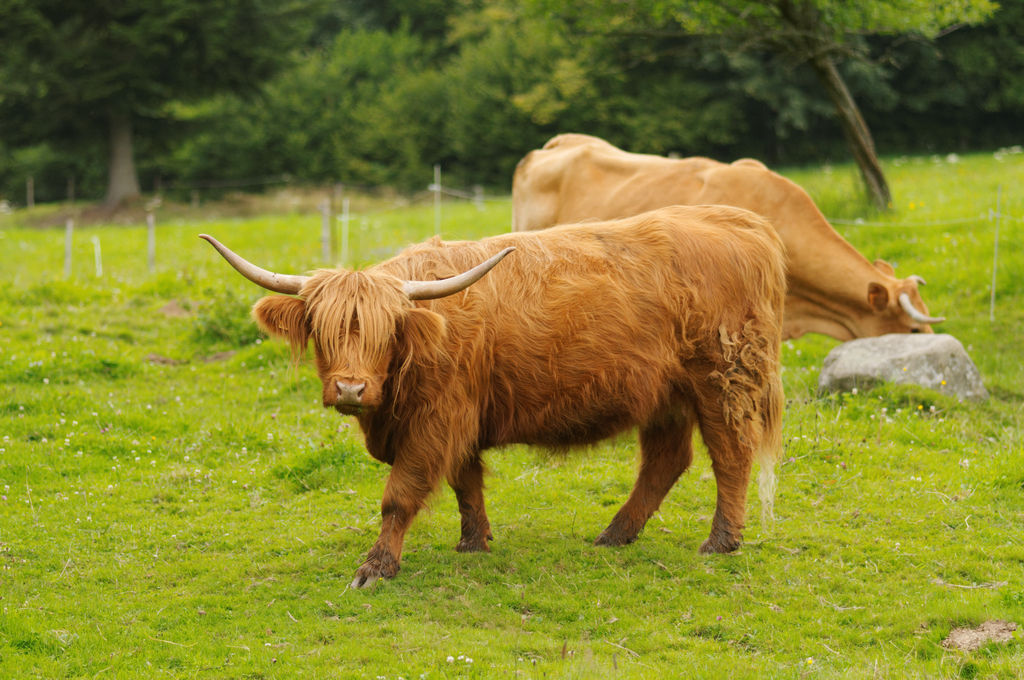Tree: (0, 0, 1024, 214)
